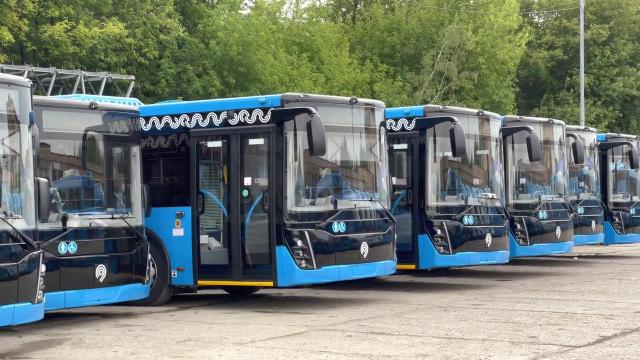bus: (142, 90, 400, 296), (30, 89, 152, 315), (400, 104, 517, 274), (504, 114, 576, 258), (595, 128, 640, 258), (564, 125, 610, 249)
